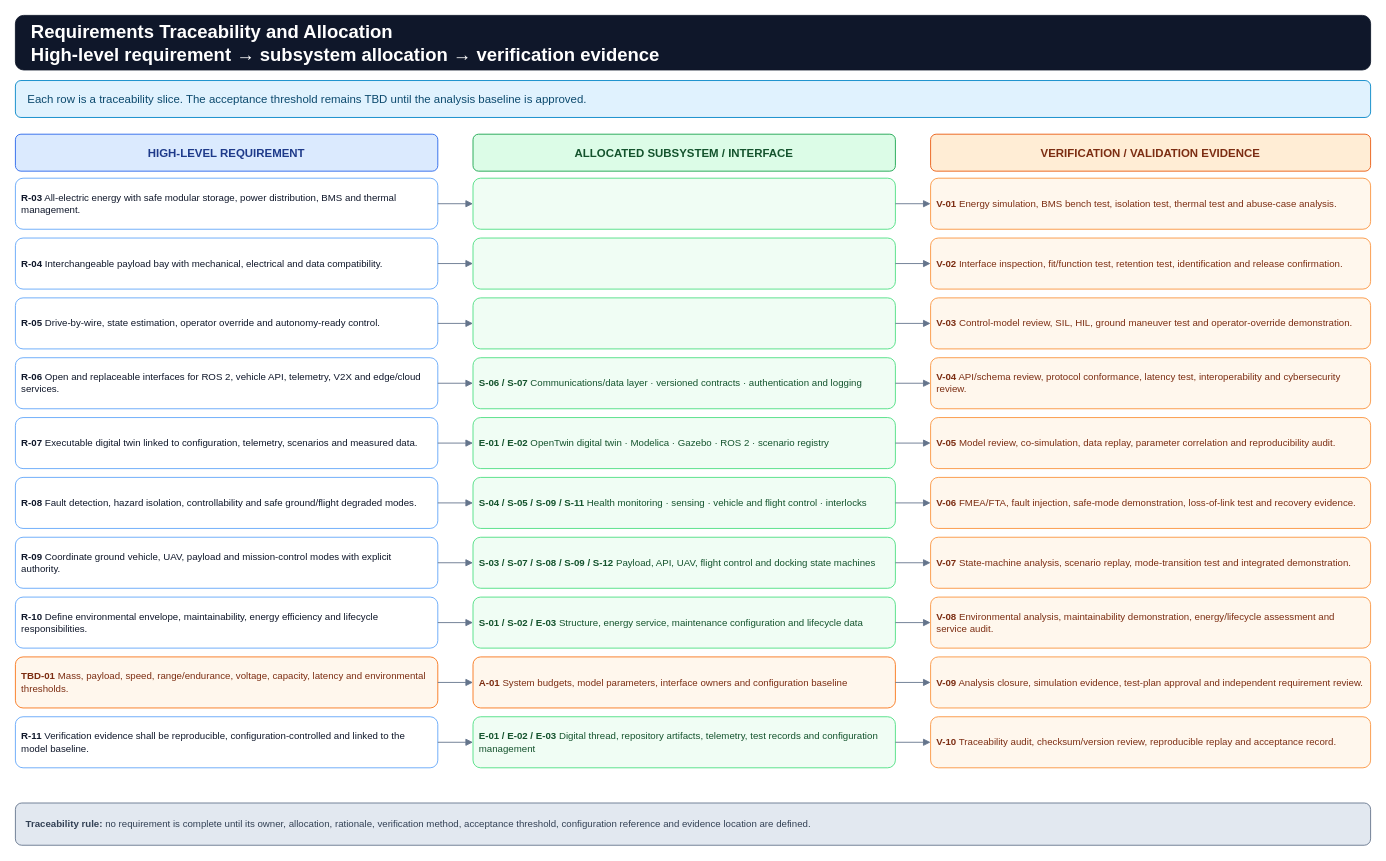
This 1386x861 diagram has some shape labels left out. Each missing label, with the centre of its shape:
S-01 / S-04 / S-07 Mobility control · edge AI/control · vehicle API: (683,323)
S-02 Energy module · BMS · power bus · thermal/isolation services: (683,203)
S-03 / S-12 Payload bay · docking/retention · power/data hand-off · interlocks: (683,263)
